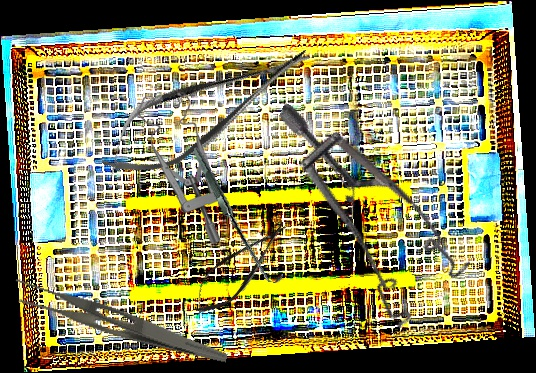Dressing Forceps: (7, 274, 235, 365)
Hook Surgical: (172, 146, 304, 285)
Micro Scissor: (86, 25, 326, 195), (181, 210, 298, 325)
Speculum: (220, 102, 499, 344), (131, 89, 228, 245)
